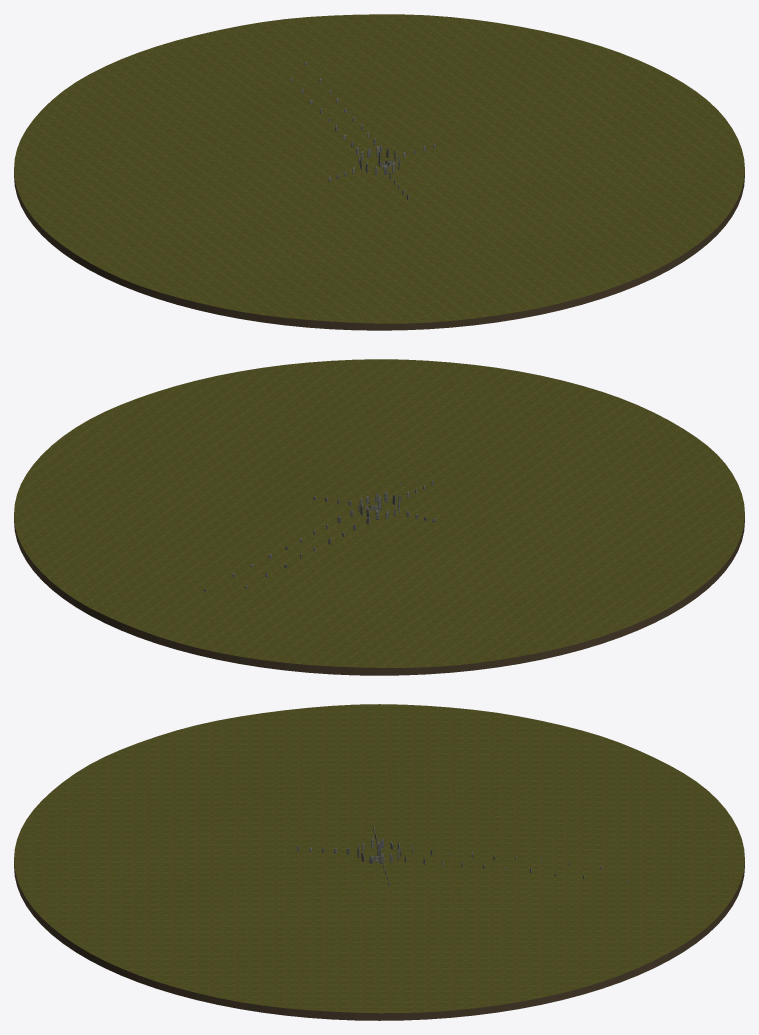
File: callanish.glb
3 views of the same model, one above another, from view 1: azimuth 30°, elevation 25°; view 2: azimuth 150°, elevation 25°; view 3: azimuth 270°, elevation 25° (orthographic).
Visible parts, largest first — view 1: Callanish; view 2: Callanish; view 3: Callanish.
Boxes of the visible parts, x1,y1,x2,y2 form: Callanish: (14,14,744,330); Callanish: (14,359,744,675); Callanish: (14,704,744,1020).
Bounding box in the file's own units: 230 × 8.54 × 230.
Materials: 5 (4 with a texture image).
